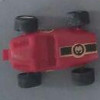rojo: (3, 13, 96, 87)
